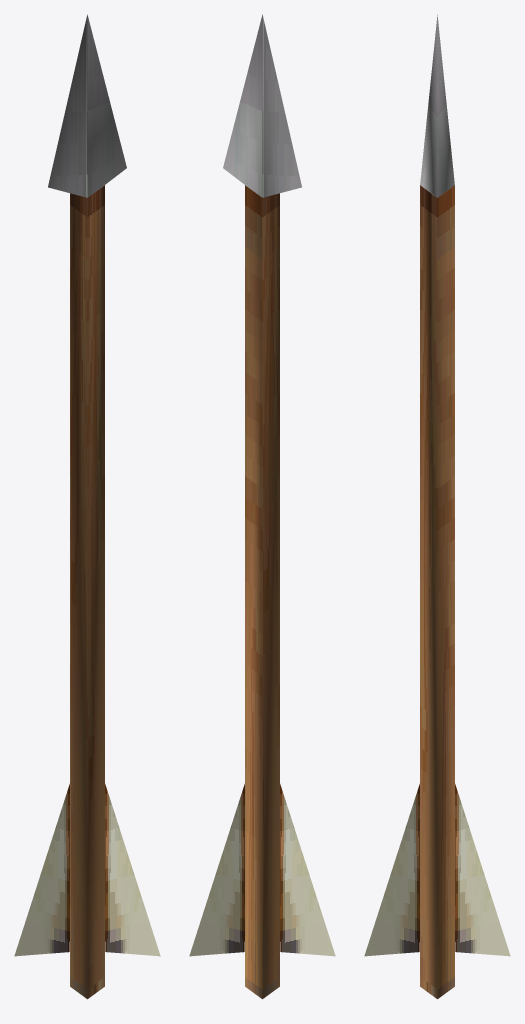
Rendered from arrow.glb.
3 renders of one model, left to right at view 1: azimuth 30°, elevation 25°; view 2: azimuth 150°, elevation 25°; view 3: azimuth 270°, elevation 25°, orthographic.
Visible parts, largest first — view 1: arrow2; view 2: arrow2; view 3: arrow2.
Boxes of the visible parts, box(x1,y1,x2,y2) form: arrow2: box(14, 14, 160, 999); arrow2: box(189, 14, 335, 999); arrow2: box(364, 14, 510, 999).
Bounding box in the file's own units: 16.27 × 134 × 18.28.
1 material, 1 textured.
